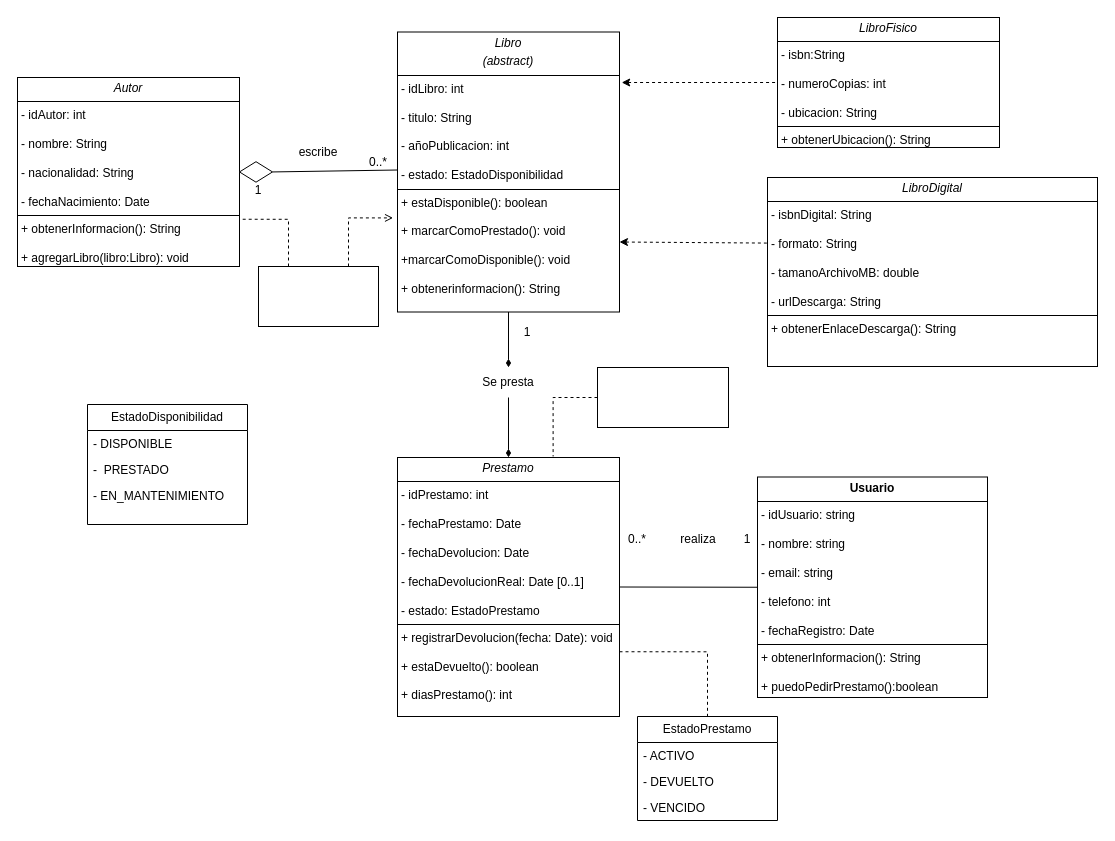
This 1115x841 diagram has some shape labels left out. The centre of each missing label's shape, as x and y in pixels:
"Composición: Un prestamo se compone de un libro y sus fechas" belongs at pixel 662 397.
"Un autor puede tener cero o muchos libros" belongs at pixel 318 296.
